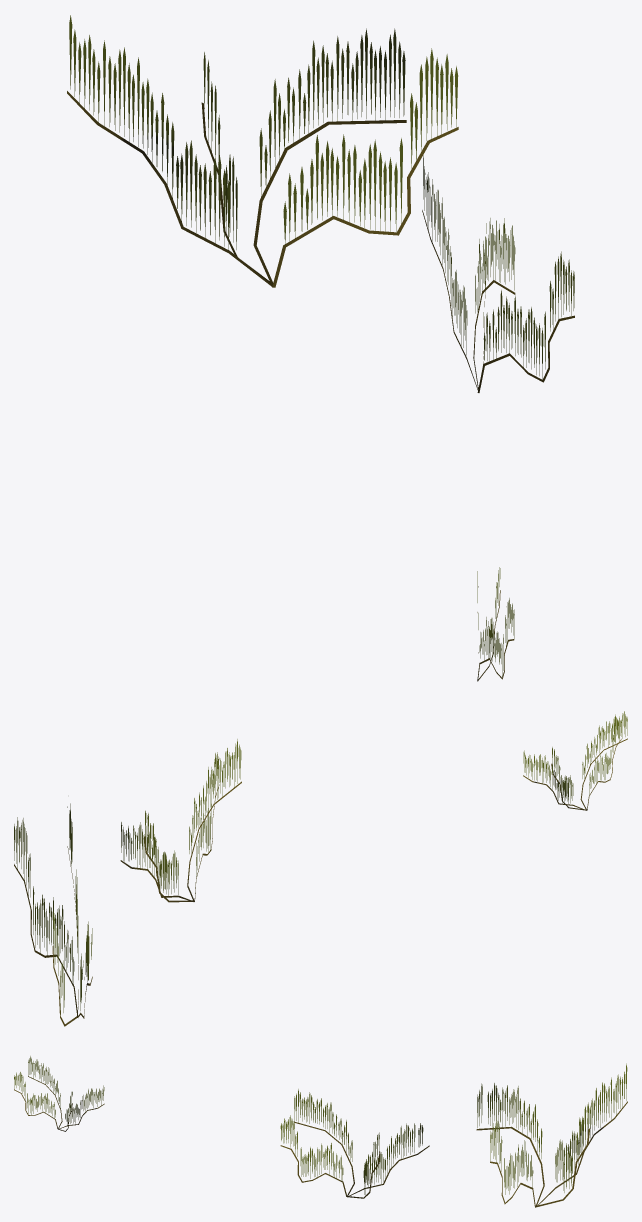
File: Plant_04.FBX
3 views of the same model, one above another, from view 1: azimuth 30°, elevation 25°; view 2: azimuth 150°, elevation 25°; view 3: azimuth 270°, elevation 25° (orthographic). The views are drawn at different scales.
Parts seen in each view (by area): view 1: Plant_04; view 2: Plant_04; view 3: Plant_04.
Part boxes in pixels (x1,y1,x2,y2): Plant_04: (67, 15, 574, 681); Plant_04: (14, 711, 627, 1026); Plant_04: (14, 1056, 627, 1207).
Bounding box in the file's own units: 14.38 × 8.76 × 34.49.
